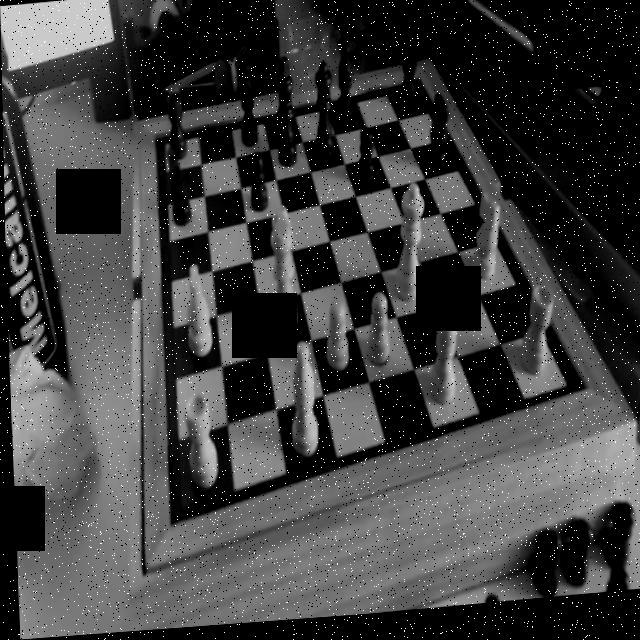chess-table-corners: (564, 372, 596, 412), (154, 496, 182, 540), (406, 68, 426, 97), (146, 123, 163, 152)
